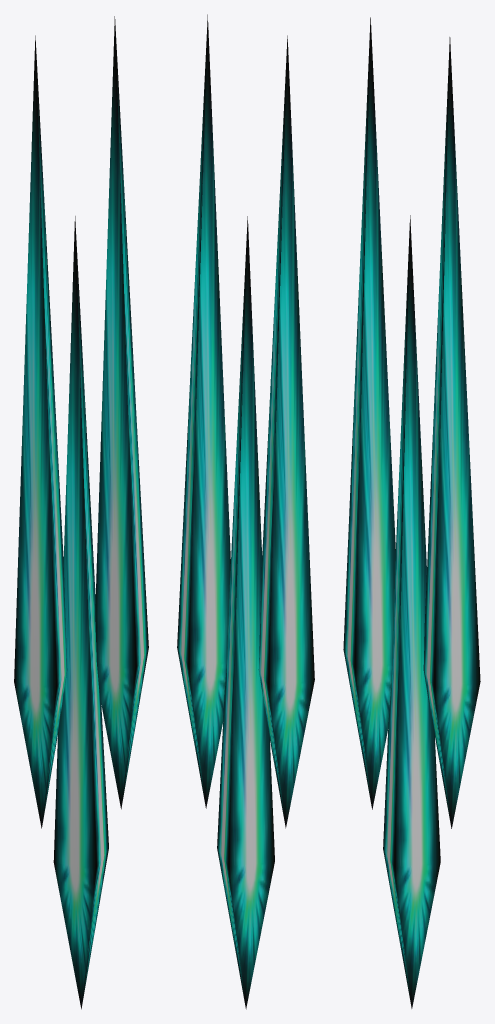
File: gamble_arrows01.glb
The picture shows the model from 3 angles, left to right: view 1: azimuth 30°, elevation 25°; view 2: azimuth 150°, elevation 25°; view 3: azimuth 330°, elevation 25°; orthographic projection.
Visible parts, largest first — view 1: model_gamble_arrows01; view 2: model_gamble_arrows01; view 3: model_gamble_arrows01.
Boxes of the visible parts, left/top/right/bottom form: model_gamble_arrows01: left=14, top=16, right=148, bottom=1009; model_gamble_arrows01: left=177, top=14, right=314, bottom=1009; model_gamble_arrows01: left=343, top=17, right=480, bottom=1008.
Bounding box in the file's own units: 0.1503 × 1.04 × 0.0625.
Materials: 1 (1 with a texture image).
